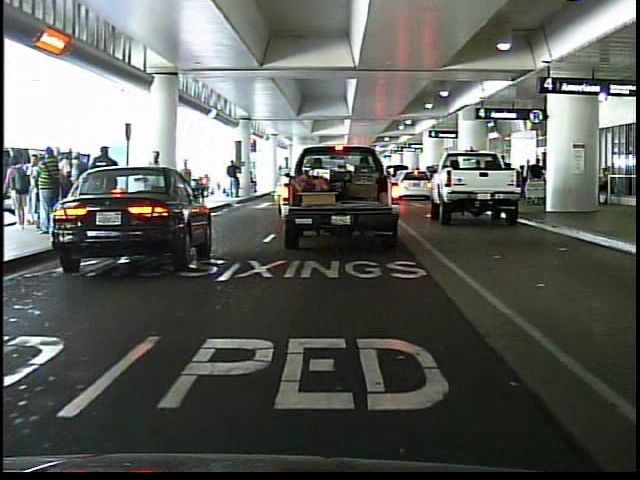person: (143, 148, 169, 227), (176, 154, 200, 227), (225, 160, 243, 200)
